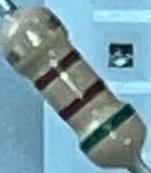Brown: (57, 75, 110, 123), (31, 47, 85, 94)
Green: (77, 100, 139, 157)
Side-Silver: (4, 12, 65, 70)
